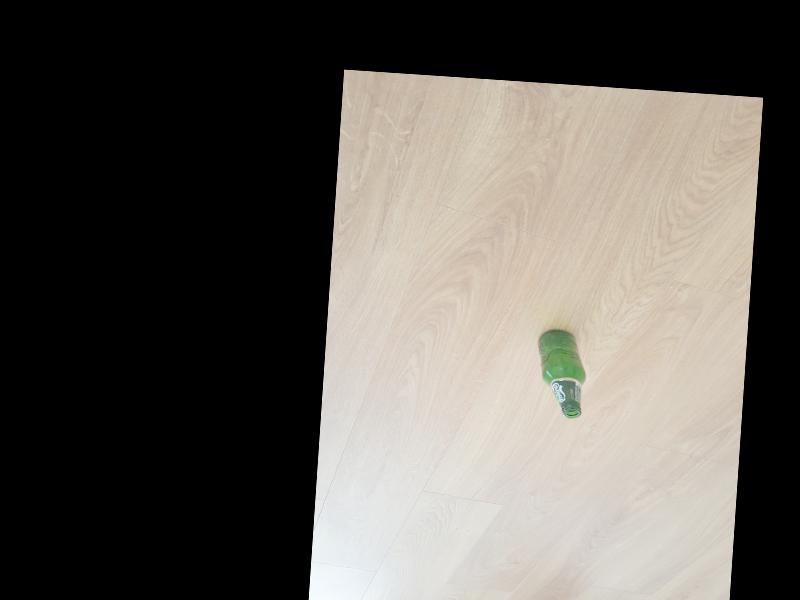Beer: (532, 327, 589, 420)
